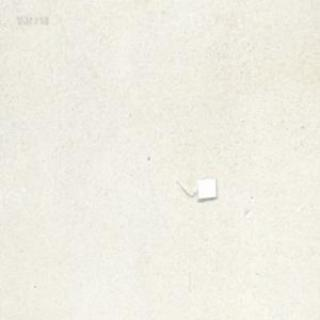LuggageTagtrack_idkeyframe: (174, 174, 216, 202)
